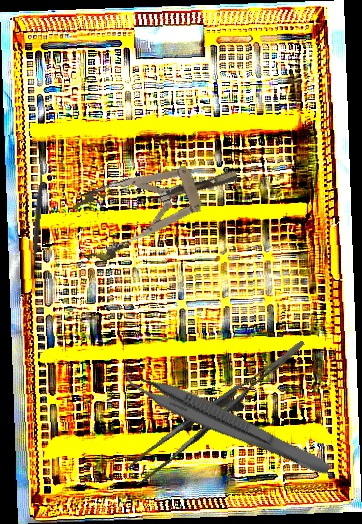Spatula Surgical: (25, 157, 50, 281)
Speculum: (65, 142, 250, 267)
Tissue Forceps: (115, 340, 324, 486), (116, 361, 337, 479)
